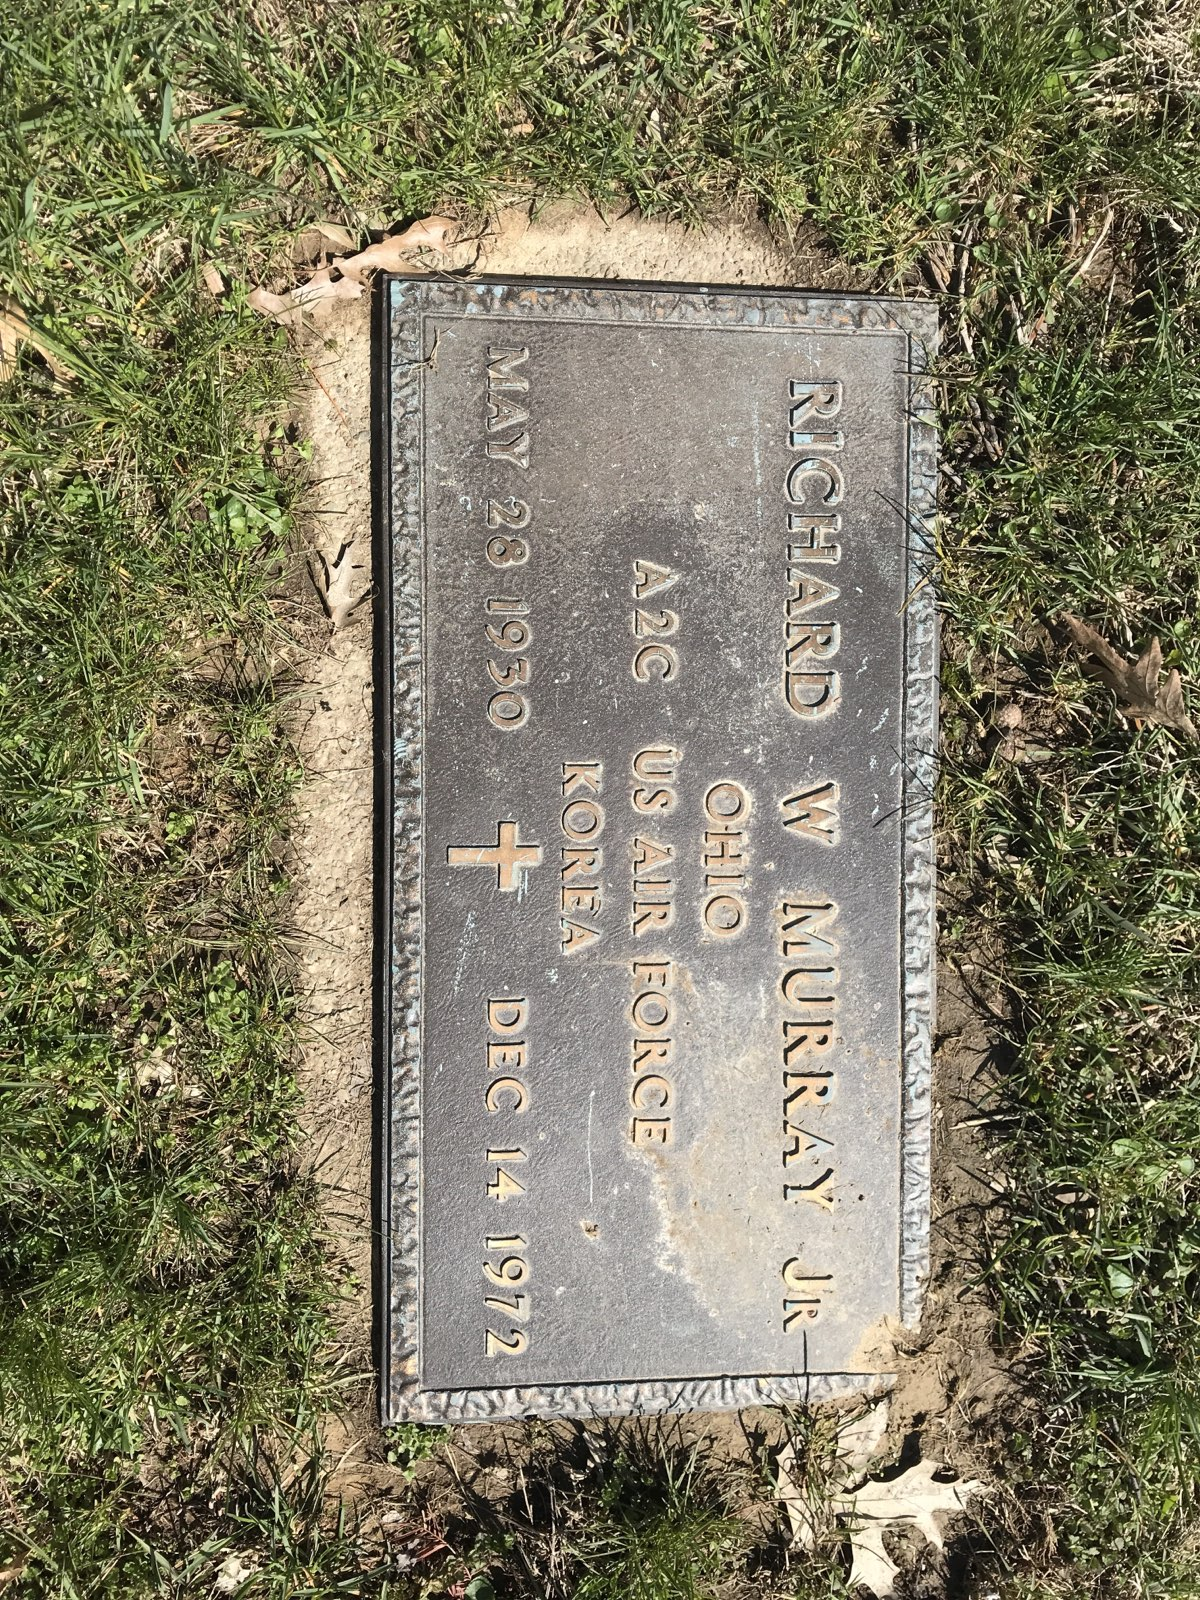flat: (258, 122, 984, 1482)
